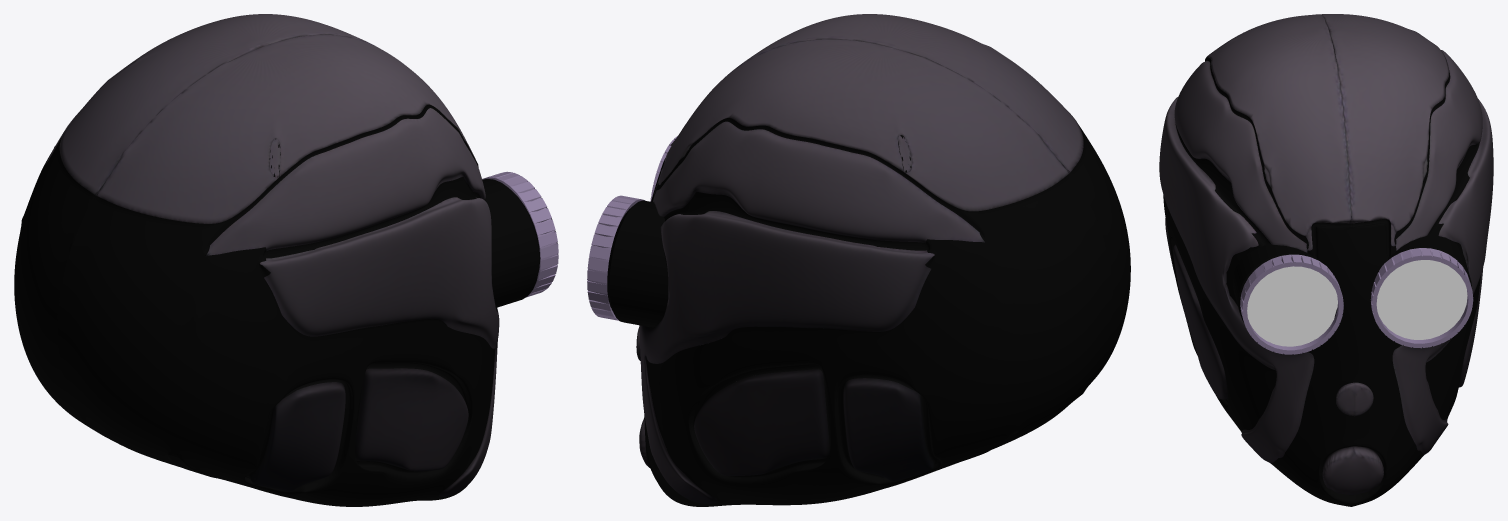
Rendered from sci_fi_helmet_3.glb.
3 views of the same model, side by side, from view 1: azimuth 30°, elevation 25°; view 2: azimuth 150°, elevation 25°; view 3: azimuth 270°, elevation 25° (orthographic). The views are drawn at different scales.
Visible parts, largest first — view 1: Sphere, Circle; view 2: Sphere, Circle; view 3: Sphere, Circle.
Part boxes in pixels (x1,y1,x2,y2): Sphere: (14,14,499,506); Circle: (482,171,558,307); Sphere: (636,14,1130,506); Circle: (587,136,677,327); Sphere: (1159,14,1493,506); Circle: (1232,233,1473,354).
Bounding box in the file's own units: 2.18 × 2.24 × 1.69.
5 materials, 3 textured.
